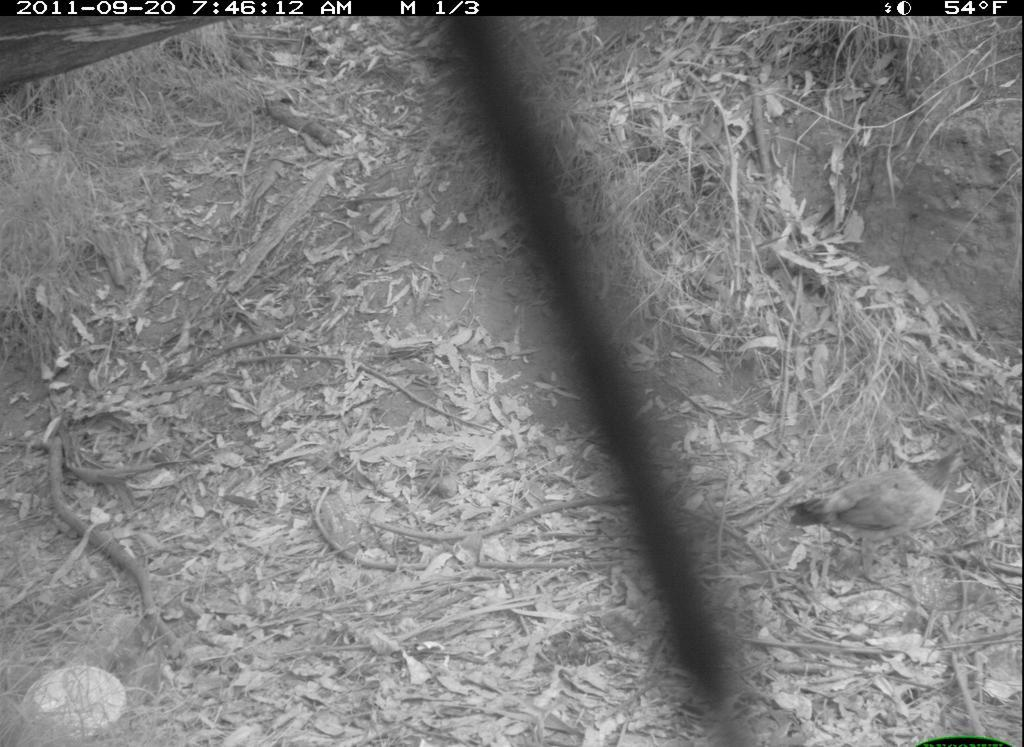bird: (779, 441, 981, 574)
